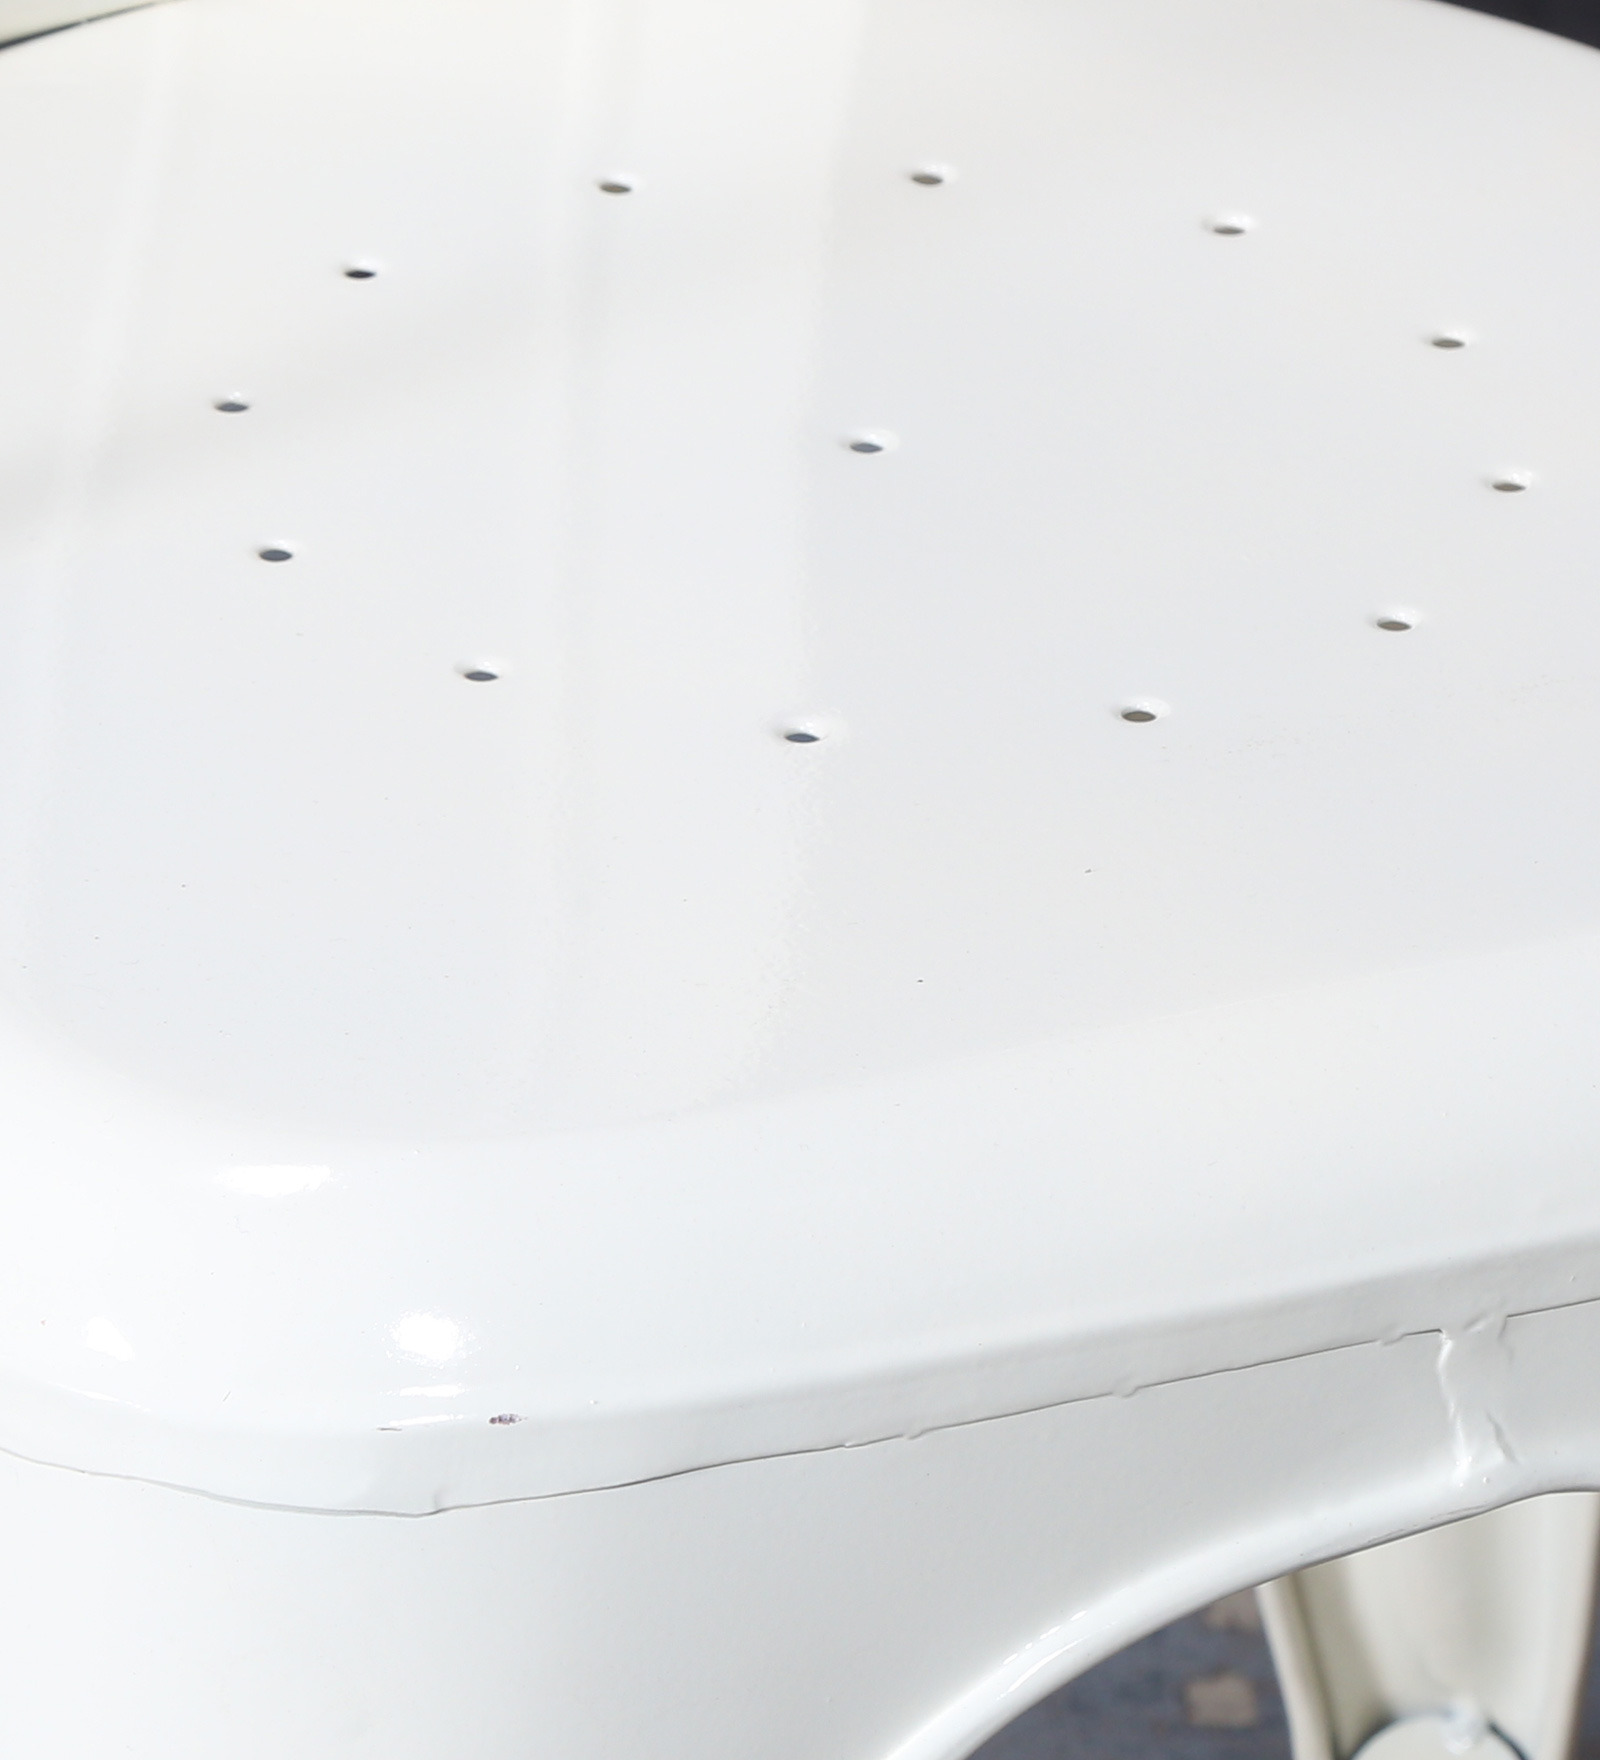Ekati Metal Chair in White Color by Bohemiana: (6, 5, 1600, 1758)
